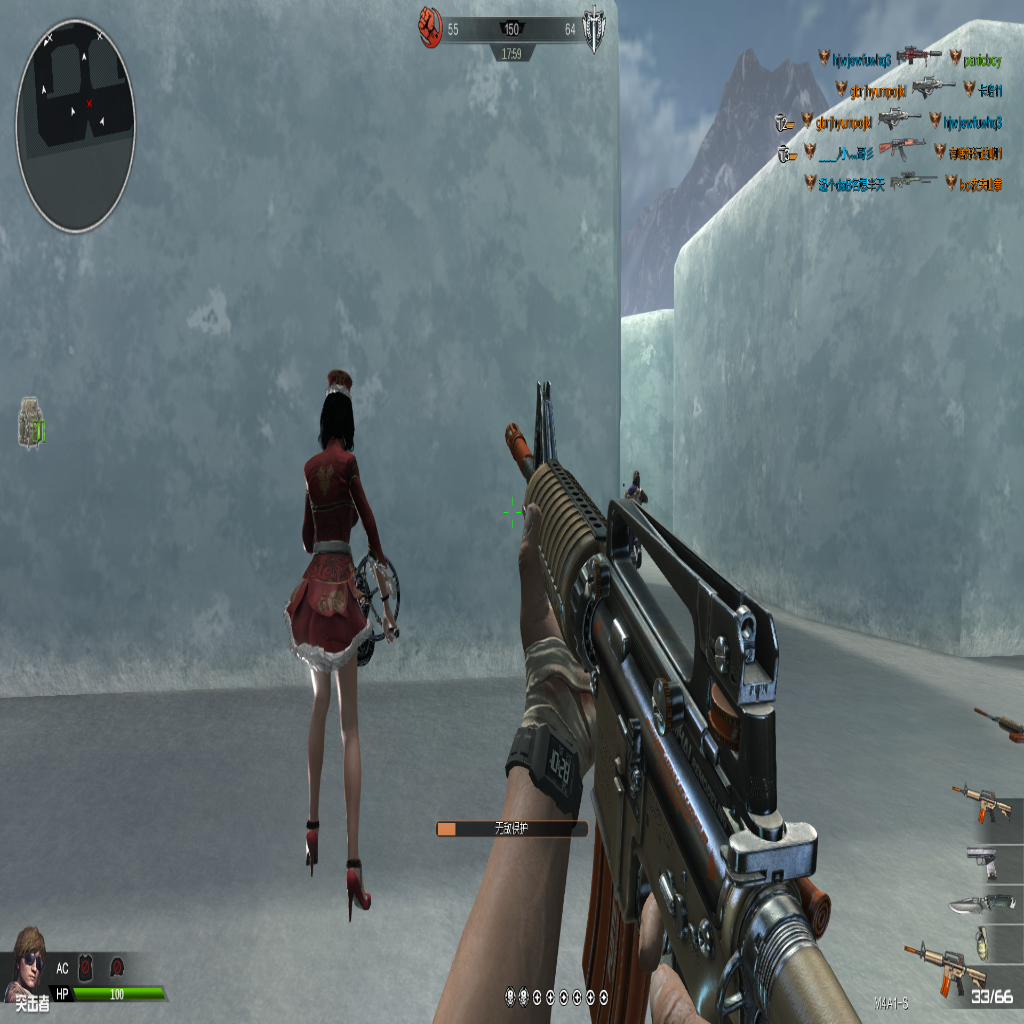tt: (283, 361, 399, 922)
